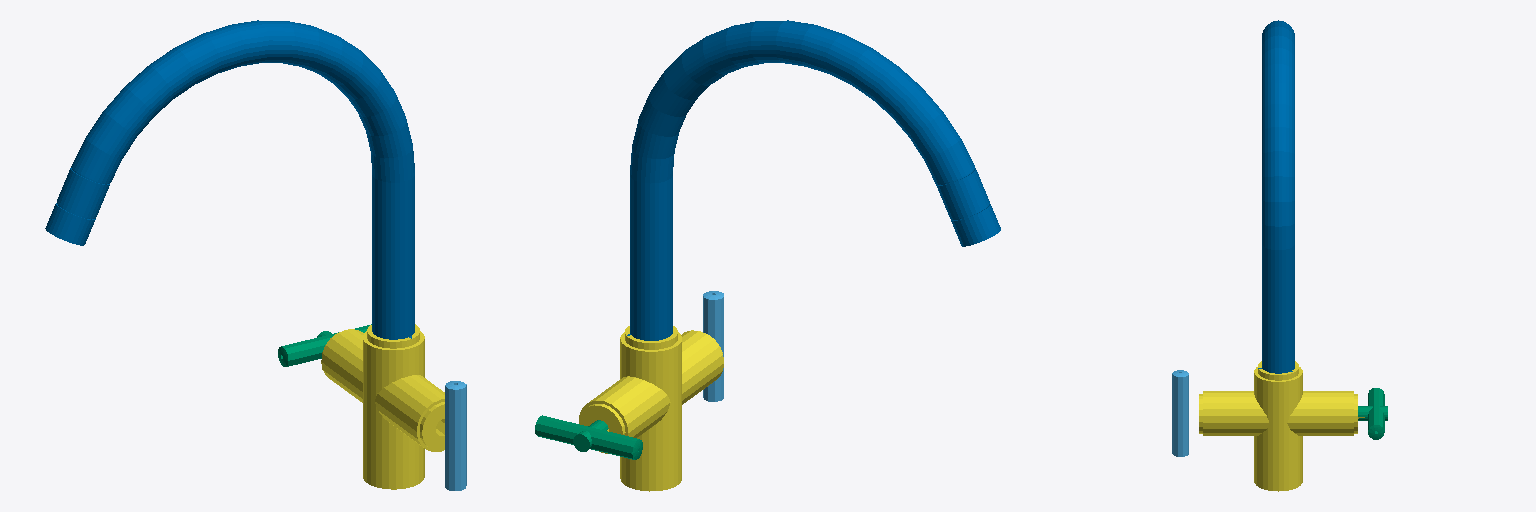
The robot description file, URDF, robot "partnet_b9816227a0b977c9b362845c6edb57fc":
<?xml version="1.0" ?>
<robot name="partnet_b9816227a0b977c9b362845c6edb57fc">
	<link name="base"/>
	<link name="link_0">
		<visual name="switch-2">
			<origin xyz="0 0.4051616942026166 0.1858696942026166"/>
			<geometry>
				<mesh filename="textured_objs/original-6.obj"/>
			</geometry>
		</visual>
		<visual name="switch-2">
			<origin xyz="0 0.4051616942026166 0.1858696942026166"/>
			<geometry>
				<mesh filename="textured_objs/new-3.obj"/>
			</geometry>
		</visual>
		<visual name="switch-2">
			<origin xyz="0 0.4051616942026166 0.1858696942026166"/>
			<geometry>
				<mesh filename="textured_objs/original-5.obj"/>
			</geometry>
		</visual>
		<collision>
			<origin xyz="0 0.4051616942026166 0.1858696942026166"/>
			<geometry>
				<mesh filename="textured_objs/original-6.obj"/>
			</geometry>
		</collision>
		<collision>
			<origin xyz="0 0.4051616942026166 0.1858696942026166"/>
			<geometry>
				<mesh filename="textured_objs/new-3.obj"/>
			</geometry>
		</collision>
		<collision>
			<origin xyz="0 0.4051616942026166 0.1858696942026166"/>
			<geometry>
				<mesh filename="textured_objs/original-5.obj"/>
			</geometry>
		</collision>
	</link>
	<joint name="joint_0" type="continuous">
		<origin xyz="0 -0.4051616942026166 -0.1858696942026166"/>
		<axis xyz="1 0 0"/>
		<child link="link_0"/>
		<parent link="link_2"/>
	</joint>
	<link name="link_1">
		<visual name="switch-3">
			<origin xyz="0 0.4051616942026166 0.18586969420261662"/>
			<geometry>
				<mesh filename="textured_objs/original-4.obj"/>
			</geometry>
		</visual>
		<visual name="switch-3">
			<origin xyz="0 0.4051616942026166 0.18586969420261662"/>
			<geometry>
				<mesh filename="textured_objs/original-3.obj"/>
			</geometry>
		</visual>
		<visual name="switch-3">
			<origin xyz="0 0.4051616942026166 0.18586969420261662"/>
			<geometry>
				<mesh filename="textured_objs/new-2.obj"/>
			</geometry>
		</visual>
		<collision>
			<origin xyz="0 0.4051616942026166 0.18586969420261662"/>
			<geometry>
				<mesh filename="textured_objs/original-4.obj"/>
			</geometry>
		</collision>
		<collision>
			<origin xyz="0 0.4051616942026166 0.18586969420261662"/>
			<geometry>
				<mesh filename="textured_objs/original-3.obj"/>
			</geometry>
		</collision>
		<collision>
			<origin xyz="0 0.4051616942026166 0.18586969420261662"/>
			<geometry>
				<mesh filename="textured_objs/new-2.obj"/>
			</geometry>
		</collision>
	</link>
	<joint name="joint_1" type="continuous">
		<origin xyz="0 -0.4051616942026166 -0.18586969420261662"/>
		<axis xyz="1 0 0"/>
		<child link="link_1"/>
		<parent link="link_2"/>
	</joint>
	<link name="link_2">
		<visual name="vertical_support-7">
			<origin xyz="0 0 0"/>
			<geometry>
				<mesh filename="textured_objs/new-10.obj"/>
			</geometry>
		</visual>
		<visual name="horizontal_support-8">
			<origin xyz="0 0 0"/>
			<geometry>
				<mesh filename="textured_objs/new-4.obj"/>
			</geometry>
		</visual>
		<visual name="surface_base-10">
			<origin xyz="0 0 0"/>
			<geometry>
				<mesh filename="textured_objs/new-9.obj"/>
			</geometry>
		</visual>
		<collision>
			<origin xyz="0 0 0"/>
			<geometry>
				<mesh filename="textured_objs/new-10.obj"/>
			</geometry>
		</collision>
		<collision>
			<origin xyz="0 0 0"/>
			<geometry>
				<mesh filename="textured_objs/new-4.obj"/>
			</geometry>
		</collision>
		<collision>
			<origin xyz="0 0 0"/>
			<geometry>
				<mesh filename="textured_objs/new-9.obj"/>
			</geometry>
		</collision>
	</link>
	<joint name="joint_2" type="fixed">
		<origin rpy="1.570796326794897 0 -1.570796326794897" xyz="0 0 0"/>
		<child link="link_2"/>
		<parent link="base"/>
	</joint>
	<link name="link_3">
		<visual name="tube-6">
			<origin xyz="0.0015881912962019719 0 0.18586980870379802"/>
			<geometry>
				<mesh filename="textured_objs/new-8.obj"/>
			</geometry>
		</visual>
		<visual name="mouth-9">
			<origin xyz="0.0015881912962019719 0 0.18586980870379802"/>
			<geometry>
				<mesh filename="textured_objs/new-7.obj"/>
			</geometry>
		</visual>
		<collision>
			<origin xyz="0.0015881912962019719 0 0.18586980870379802"/>
			<geometry>
				<mesh filename="textured_objs/new-8.obj"/>
			</geometry>
		</collision>
		<collision>
			<origin xyz="0.0015881912962019719 0 0.18586980870379802"/>
			<geometry>
				<mesh filename="textured_objs/new-7.obj"/>
			</geometry>
		</collision>
	</link>
	<joint name="joint_3" type="continuous">
		<origin xyz="-0.0015881912962019719 0 -0.18586980870379802"/>
		<axis xyz="0 1 0"/>
		<child link="link_3"/>
		<parent link="link_2"/>
	</joint>
</robot>

--- Facts derived from the render (not from the file) ---
3 views of the same robot in one strip: view 1: azimuth 30°, elevation 25°; view 2: azimuth 150°, elevation 25°; view 3: azimuth 270°, elevation 25° (orthographic).
Robot: partnet_b9816227a0b977c9b362845c6edb57fc — 5 links, 4 joints (3 continuous, 1 fixed); root link base; default pose: all joints at 0.
Visible links, largest first — view 1: link_3, link_2, link_0, link_1; view 2: link_3, link_2, link_1, link_0; view 3: link_3, link_2, link_0, link_1.
Boxes of the visible links, x1,y1,x2,y2 form: link_3: [45, 20, 414, 339]; link_2: [321, 324, 444, 489]; link_0: [445, 381, 466, 490]; link_1: [278, 324, 371, 366]; link_3: [627, 20, 1000, 340]; link_2: [579, 326, 723, 491]; link_1: [535, 415, 642, 459]; link_0: [703, 291, 723, 401]; link_3: [1258, 20, 1294, 373]; link_2: [1199, 361, 1364, 491]; link_0: [1172, 370, 1188, 456]; link_1: [1358, 388, 1387, 439].
Size in the robot's own frame: 1.28 by 0.7695 by 1.51 metres.
Meshes: 11 distinct files referenced, 6 mesh visuals loaded (6 OBJ); not drawn: 5 (reference not matched to a file when rendering).
